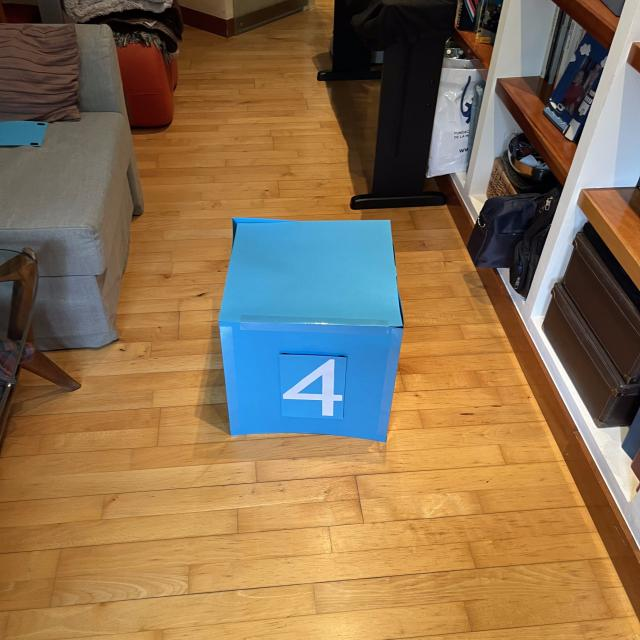box: (214, 212, 407, 444)
